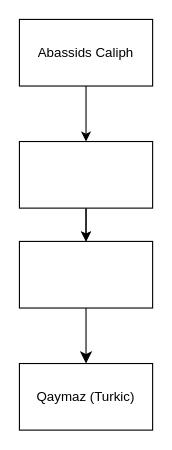
Image size: 172x450. Some labels were removed from this diagram. Each missing label, with the centre of its shape:
appoint directly: pixel 85 174
Chamberlain: pixel 85 274
